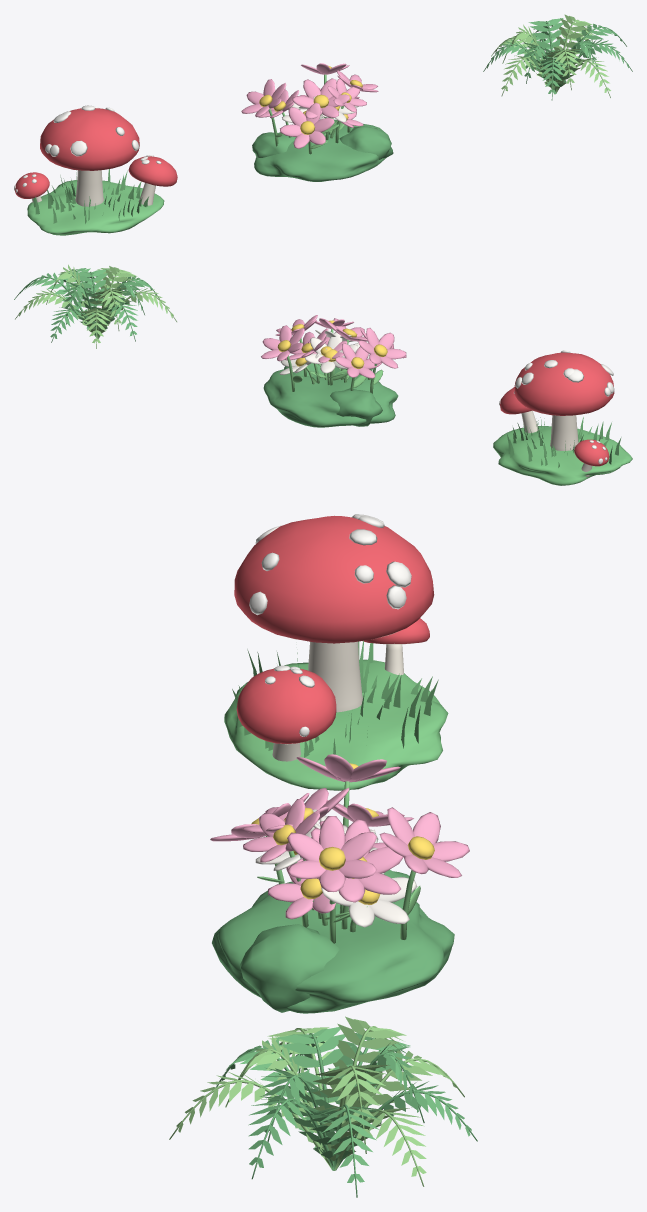
Rendered from RunwayBatch1.fbx.
3 views of the same model, one above another, from view 1: azimuth 30°, elevation 25°; view 2: azimuth 150°, elevation 25°; view 3: azimuth 270°, elevation 25° (orthographic). The views are drawn at different scales.
Parts seen in each view (by area): view 1: MushroomCap, FlowerBush, MushroomGrass, FlowerPetalsA, FernFronds, FernFrondsLight, MushroomStem, MushroomSpots, FlowerCenters, FlowerStems, FlowerPetalsB; view 2: MushroomCap, FlowerBush, MushroomGrass, FlowerPetalsA, FernFronds, FernFrondsLight, MushroomStem, FlowerPetalsB, FlowerStems, FlowerCenters, MushroomSpots; view 3: MushroomCap, FlowerBush, FlowerPetalsA, MushroomGrass, FernFronds, FernFrondsLight, MushroomStem, MushroomSpots, FlowerPetalsB, FlowerCenters, FlowerStems.
Boxes of the visible parts, x1,y1,x2,y2 form: MushroomCap: (15, 108, 177, 198); FlowerBush: (252, 119, 393, 181); MushroomGrass: (27, 169, 164, 235); FlowerPetalsA: (241, 63, 378, 148); FernFronds: (483, 18, 632, 100); FernFrondsLight: (491, 14, 610, 97); MushroomStem: (32, 170, 155, 206); MushroomSpots: (14, 105, 161, 192); FlowerCenters: (259, 65, 362, 134); FlowerStems: (268, 74, 350, 154); FlowerPetalsB: (282, 96, 358, 122); MushroomCap: (500, 352, 614, 466); FlowerBush: (263, 363, 398, 427); MushroomGrass: (493, 417, 632, 485); FlowerPetalsA: (261, 315, 406, 378); FernFronds: (14, 268, 159, 342); FernFrondsLight: (15, 264, 176, 348); MushroomStem: (521, 410, 592, 477); FlowerPetalsB: (279, 330, 369, 374); FlowerStems: (287, 329, 383, 393); FlowerCenters: (277, 320, 387, 368); MushroomSpots: (499, 350, 614, 463); MushroomCap: (234, 515, 434, 743); FlowerBush: (212, 869, 454, 1013); FlowerPetalsA: (210, 754, 469, 919); MushroomGrass: (224, 640, 448, 790); FernFronds: (216, 1027, 477, 1197); FernFrondsLight: (169, 1016, 464, 1186); MushroomStem: (272, 641, 403, 761); MushroomSpots: (249, 514, 411, 736); FlowerPetalsB: (255, 809, 417, 927); FlowerCenters: (251, 763, 434, 904); FlowerStems: (257, 781, 420, 943).
Size of the model in its own units: 6459 by 1140 by 1437.
